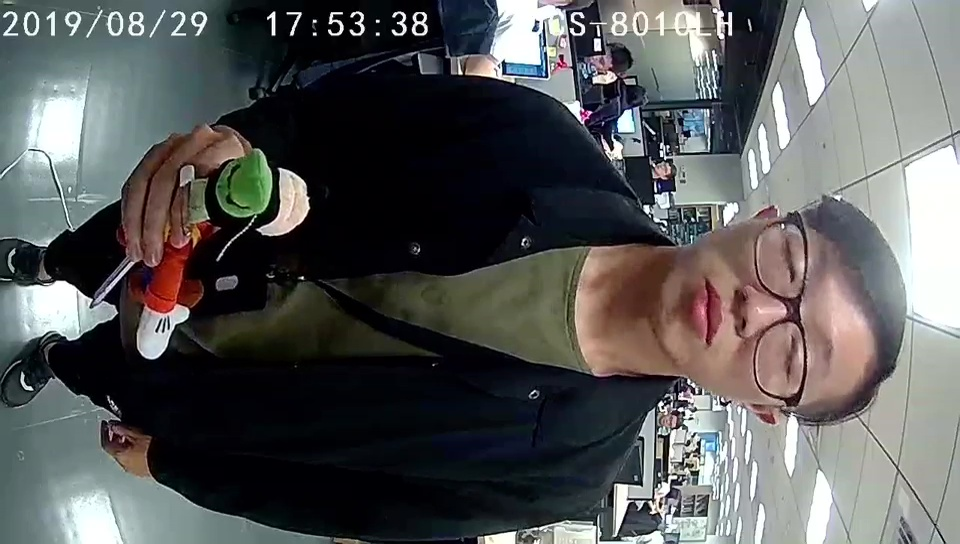goofy: (133, 145, 311, 363)
